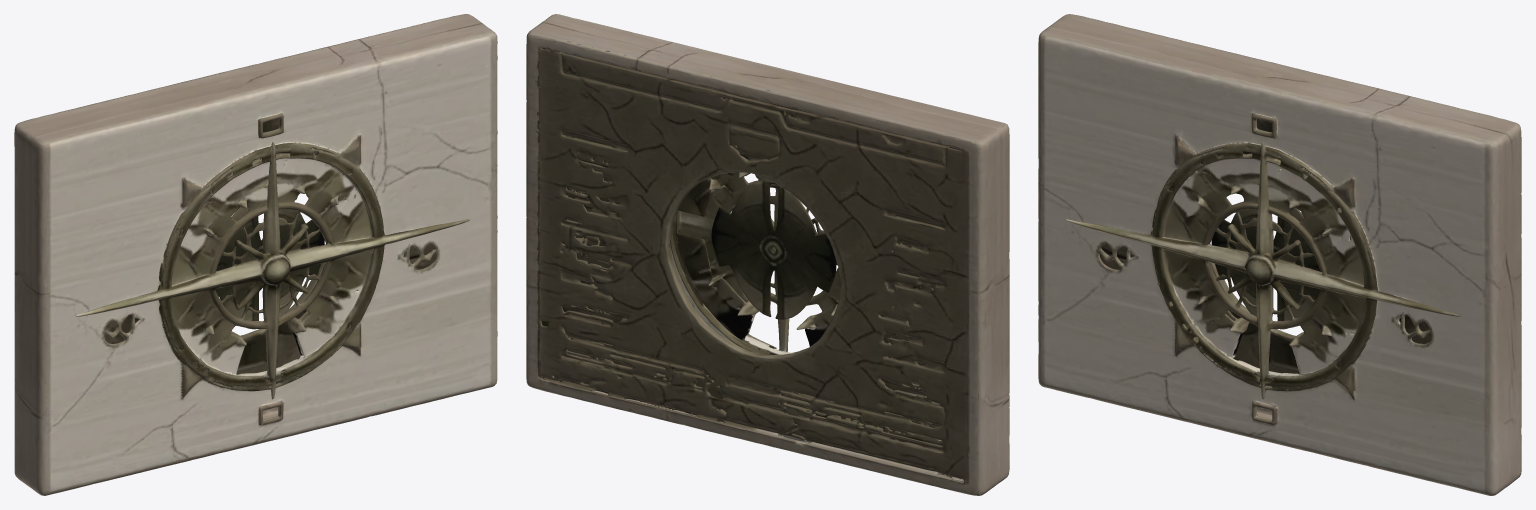
The picture shows the model from 3 angles, left to right: view 1: azimuth 30°, elevation 25°; view 2: azimuth 150°, elevation 25°; view 3: azimuth 330°, elevation 25°; orthographic projection.
Visible parts, largest first — view 1: world; view 2: world; view 3: world.
Boxes of the visible parts, x1,y1,x2,y2 form: world: [14, 14, 497, 495]; world: [526, 14, 1009, 495]; world: [1038, 14, 1521, 495].
Bounding box in the file's own units: 1 × 0.7418 × 0.1466.
1 material, 1 textured.
